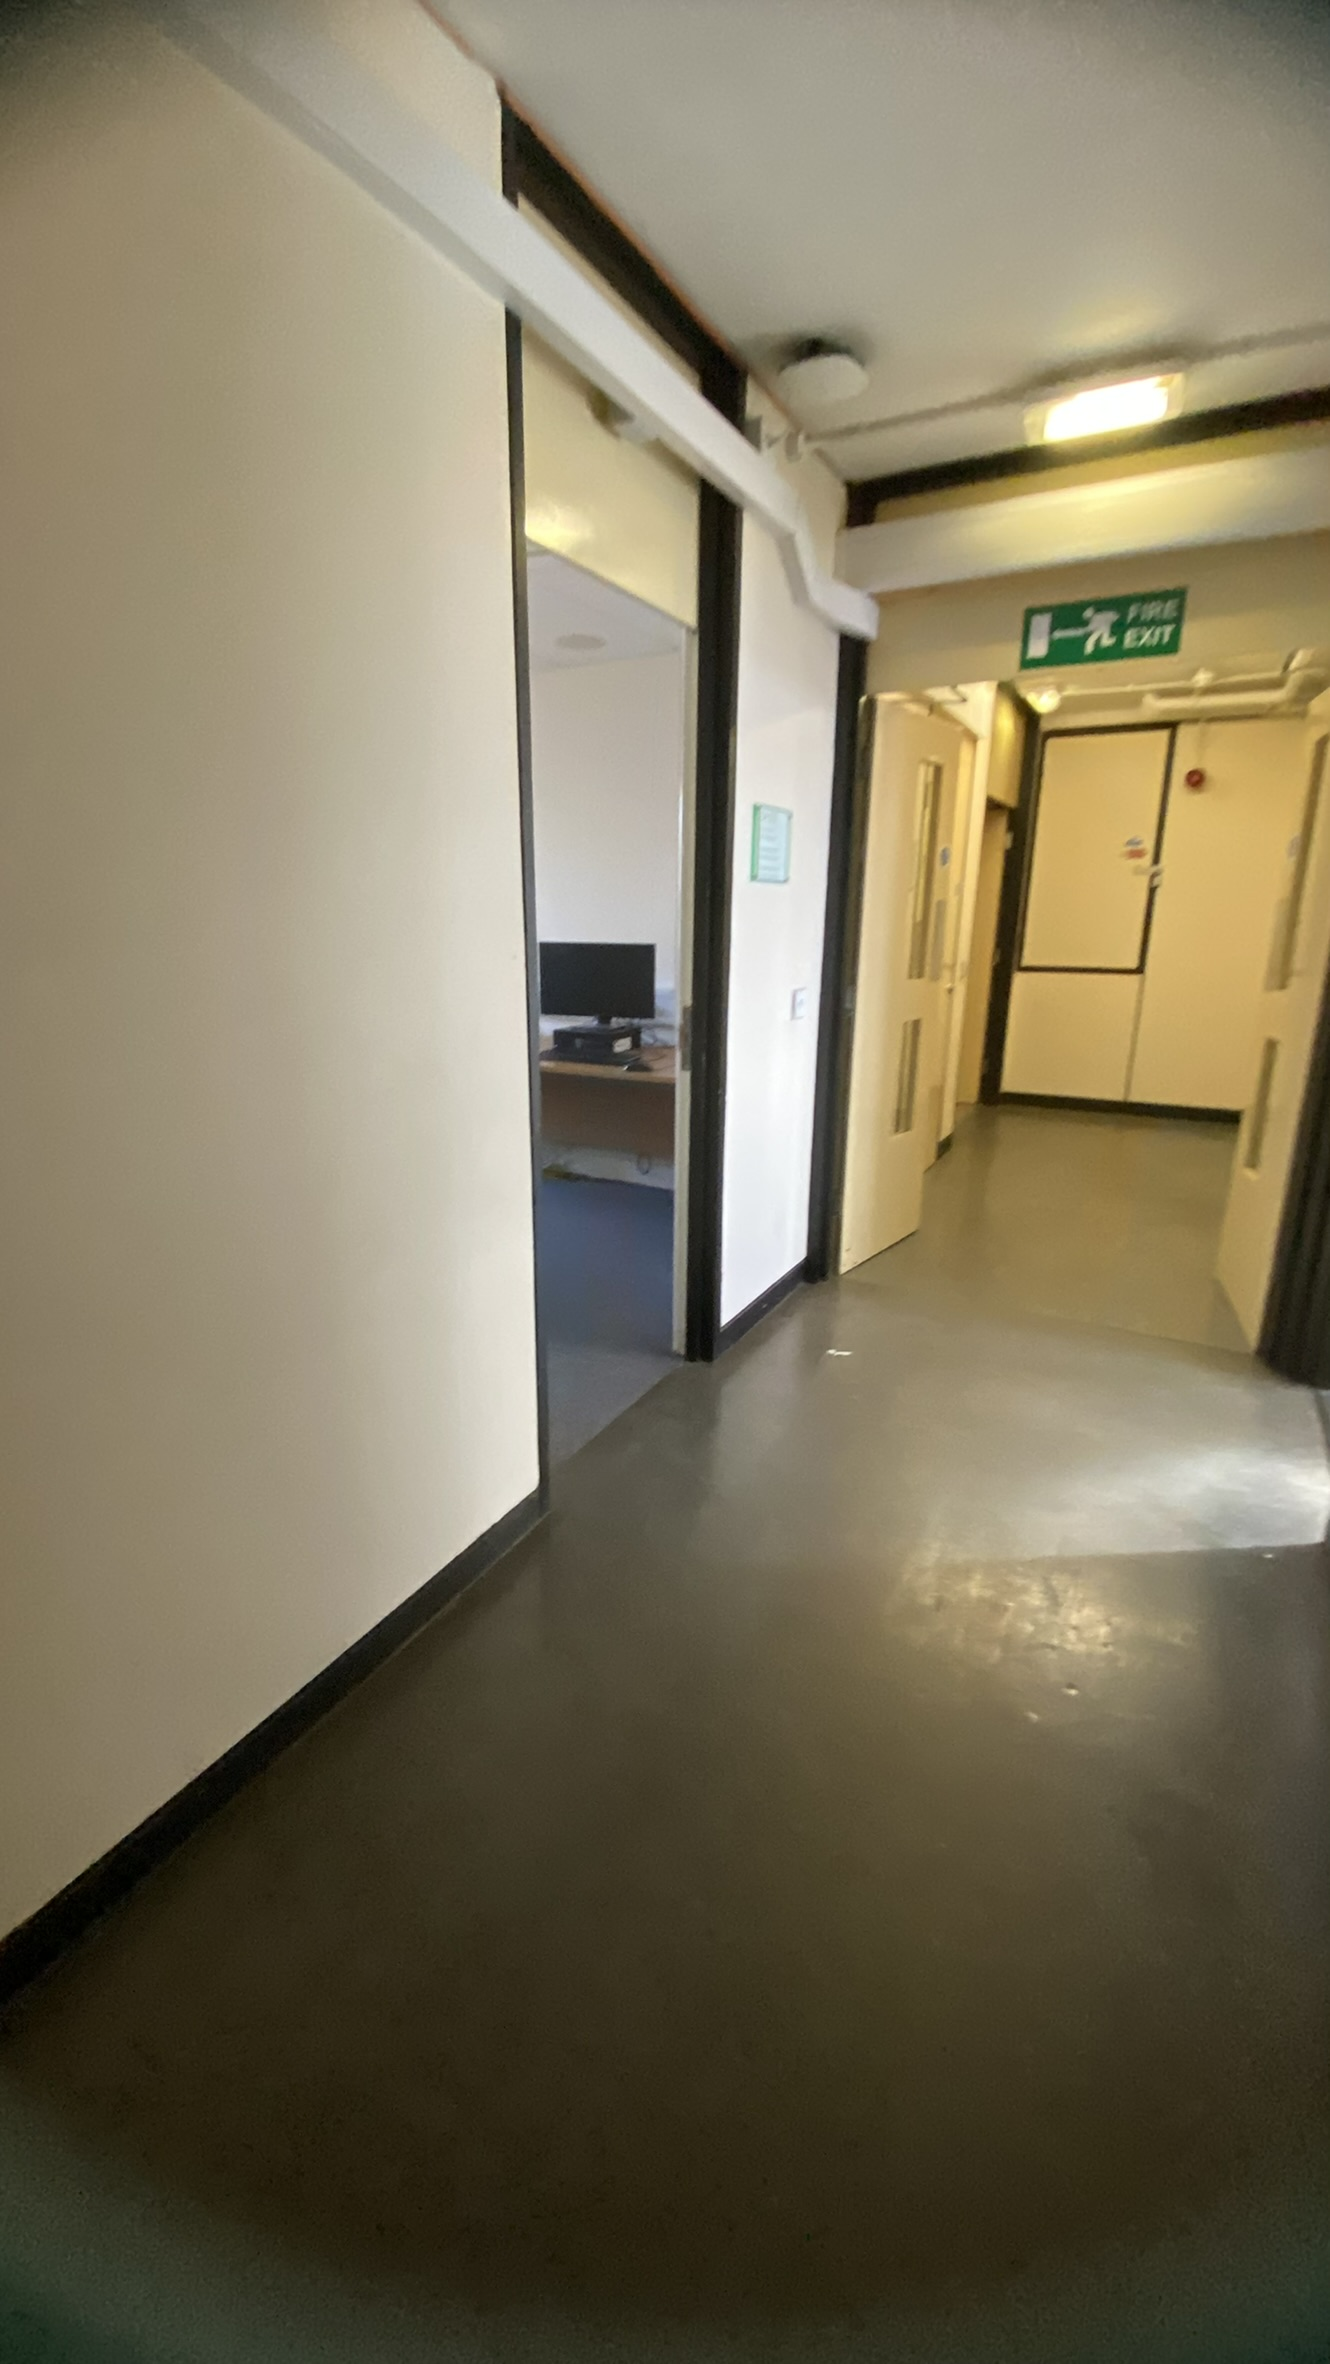door: (435, 270, 823, 1559), (818, 633, 1330, 1317)
